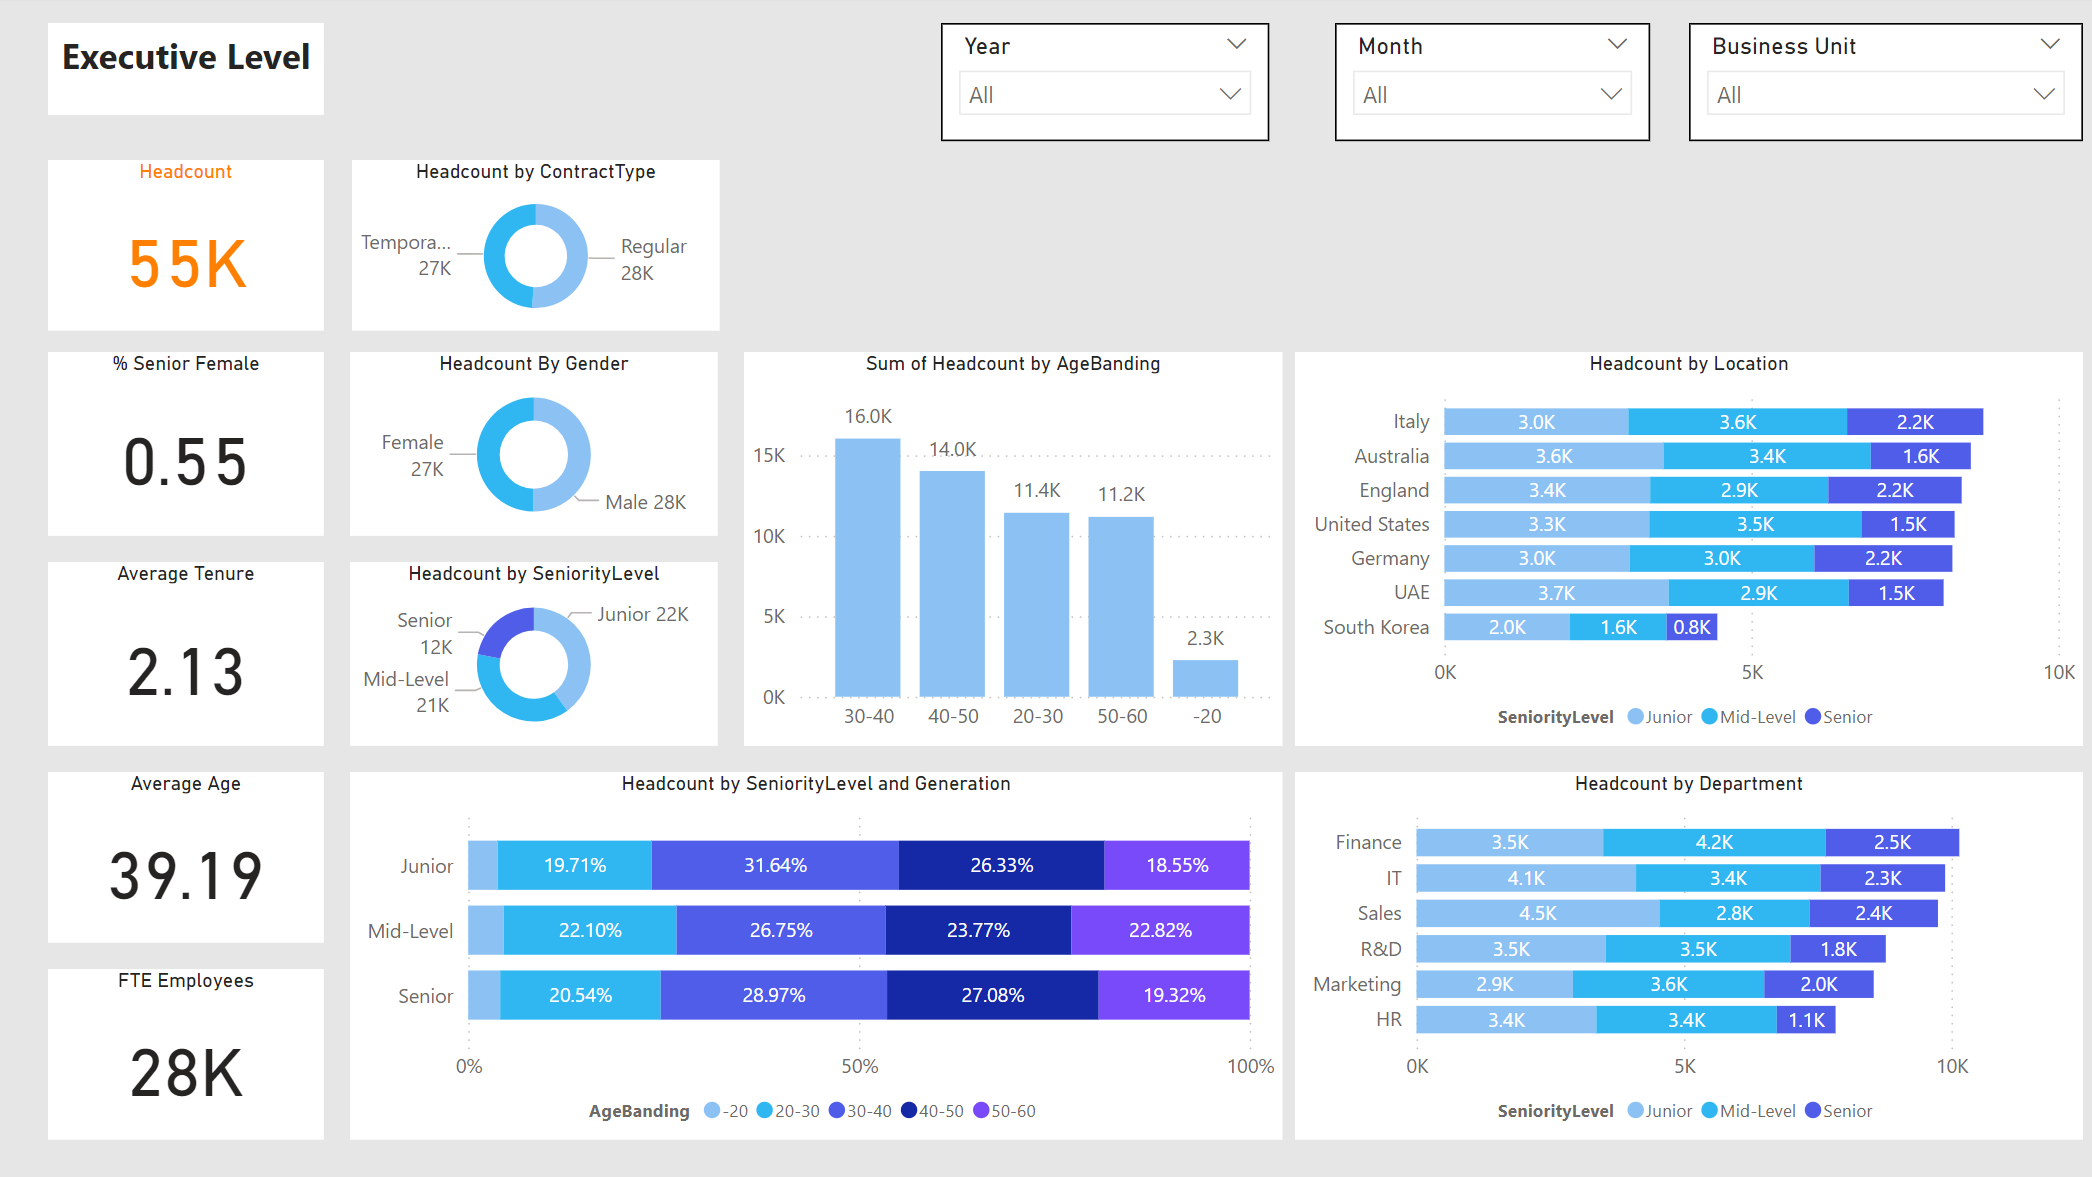

Layout of this report page (visuals, bound fields, positions):
{"tool":"powerbi","page":{"name":"Summary","canvas":[1280,720],"ordinal":0},"visuals":[{"type":"slicer","fields":{"Values":["v_dim_date.DateValue.Variation.Date Hierarchy.Month"]},"box":[816,16,192,72],"z":0},{"type":"slicer","fields":{"Values":["v_dim_date.DateValue.Variation.Date Hierarchy.Year"]},"box":[576,16,200,72],"z":1000},{"type":"slicer","fields":{"Values":["v_dim_businessunit.Name"]},"box":[1032,16,240,72],"z":2000},{"type":"card","title":"Headcount","fields":{"Values":["Sum(v_fact_headcount.Headcount)"]},"box":[32,99.3,168,104],"z":3000},{"type":"donutChart","title":"Headcount by ContractType","fields":{"Category":["v_fact_headcount.ContractType"],"Y":["Sum(v_fact_headcount.Headcount)"]},"box":[217.2,99.3,224,104],"z":4000},{"type":"barChart","title":"Headcount by Department","fields":{"Category":["v_dim_department.Name"],"Y":["Sum(v_fact_headcount.Headcount)"],"Series":["v_dim_employee.SeniorityLevel"]},"box":[792,472,480,224],"z":5000},{"type":"card","title":"Average Tenure","fields":{"Values":["Avg(v_fact_headcount.Tenure)"]},"box":[32,344,168,112],"z":6000},{"type":"textbox","box":[32,16,168,56],"z":7000},{"type":"barChart","title":"Headcount by Location","fields":{"Category":["v_dim_location.Country","v_dim_location.Name"],"Y":["Sum(v_fact_headcount.Headcount)"],"Series":["v_dim_employee.SeniorityLevel"]},"box":[792,216,480,240],"z":8000},{"type":"card","title":"% Senior Female","fields":{"Values":["v_fact_headcount.Female % Senior"]},"box":[32,216,168,112],"z":9000},{"type":"donutChart","title":"Headcount By Gender","fields":{"Y":["Sum(v_fact_headcount.Headcount)"],"Category":["v_fact_headcount.Gender"]},"box":[216,216,224,112],"z":10000},{"type":"donutChart","title":"Headcount by SeniorityLevel","fields":{"Category":["v_dim_employee.SeniorityLevel"],"Y":["Sum(v_fact_headcount.Headcount)"]},"box":[216,344,224,112],"z":11000},{"type":"card","title":"Average Age","fields":{"Values":["Avg(v_fact_headcount.Age)"]},"box":[32,472,168,104],"z":12000},{"type":"columnChart","fields":{"Category":["v_fact_headcount.AgeBanding"],"Y":["Sum(v_fact_headcount.Headcount)"]},"box":[456,216,328,240],"z":13000},{"type":"card","title":"FTE Employees","fields":{"Values":["v_fact_headcount.FTE Count"]},"box":[32,592,168,104],"z":15000},{"type":"hundredPercentStackedBarChart","title":"Headcount by SeniorityLevel and Generation","fields":{"Y":["Sum(v_fact_headcount.Headcount)"],"Category":["v_dim_employee.SeniorityLevel"],"Series":["v_fact_headcount.AgeBanding"]},"box":[216,472,568,224],"z":15001}]}

Visuals, with their boxes in screenshot pixels (x1, y1, x2, y2), scaled from the page's 1280x720 canvas onto the 2092x1177 screenshot:
slicer - v_dim_date.DateValue.Variation.Date Hierarchy.Month: (1334, 26, 1647, 144)
slicer - v_dim_date.DateValue.Variation.Date Hierarchy.Year: (941, 26, 1268, 144)
slicer - v_dim_businessunit.Name: (1687, 26, 2079, 144)
"Headcount" card: (52, 162, 327, 332)
"Headcount by ContractType" donutChart: (355, 162, 721, 332)
"Headcount by Department" barChart: (1294, 772, 2079, 1138)
"Average Tenure" card: (52, 562, 327, 745)
textbox: (52, 26, 327, 118)
"Headcount by Location" barChart: (1294, 353, 2079, 745)
"% Senior Female" card: (52, 353, 327, 536)
"Headcount By Gender" donutChart: (353, 353, 719, 536)
"Headcount by SeniorityLevel" donutChart: (353, 562, 719, 745)
"Average Age" card: (52, 772, 327, 942)
columnChart - v_fact_headcount.AgeBanding x Sum(v_fact_headcount.Headcount): (745, 353, 1281, 745)
"FTE Employees" card: (52, 968, 327, 1138)
"Headcount by SeniorityLevel and Generation" hundredPercentStackedBarChart: (353, 772, 1281, 1138)
